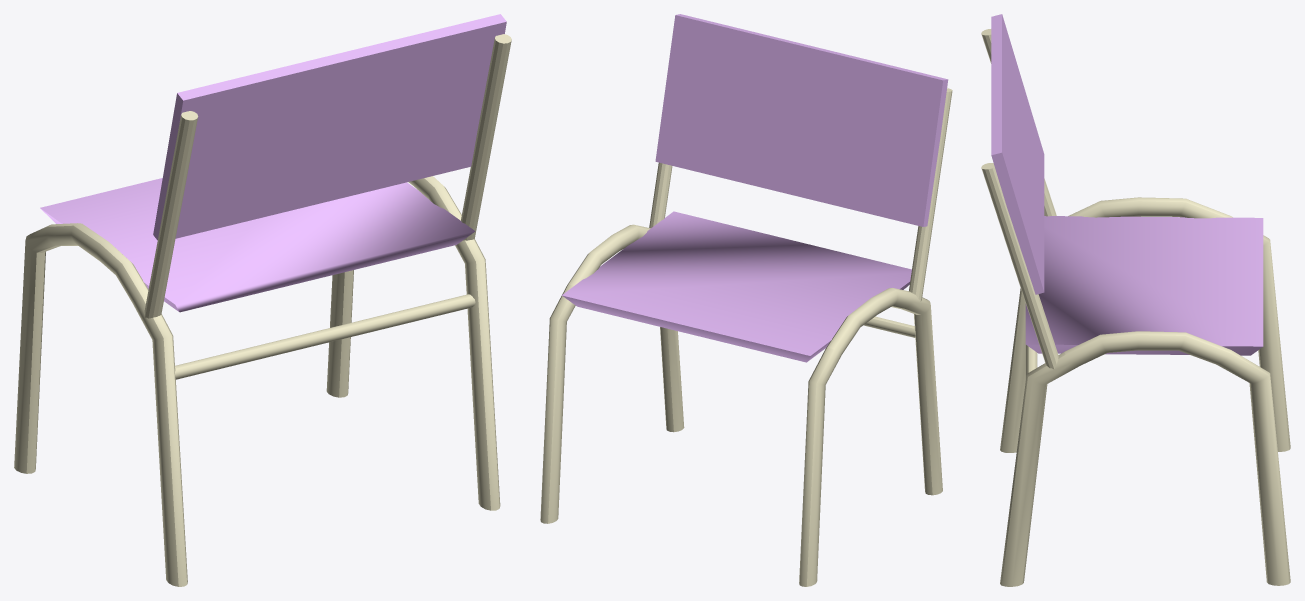
Rendered from chair4.fbx.
3 views of the same model, side by side, from view 1: azimuth 30°, elevation 25°; view 2: azimuth 150°, elevation 25°; view 3: azimuth 270°, elevation 25° (orthographic). The views are drawn at different scales.
Visible parts, largest first — view 1: Szek2; view 2: Szek2; view 3: Szek2.
Part boxes in pixels (left/top/right/bottom): Szek2: left=14, top=14, right=511, bottom=586; Szek2: left=540, top=14, right=952, bottom=586; Szek2: left=981, top=14, right=1290, bottom=586.
Size of the model in its own units: 71.85 by 103 by 66.59.
